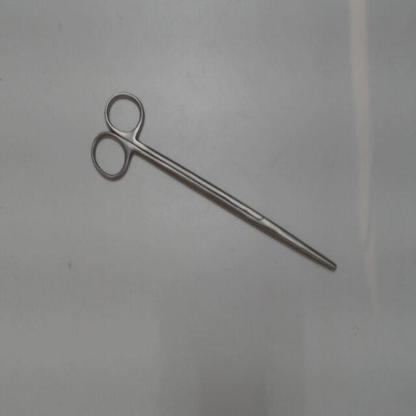9 Metzenbaum Scissors: (86, 83, 340, 275)
